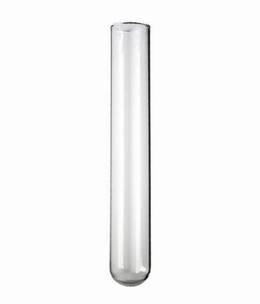Test tube: (97, 19, 162, 302)
